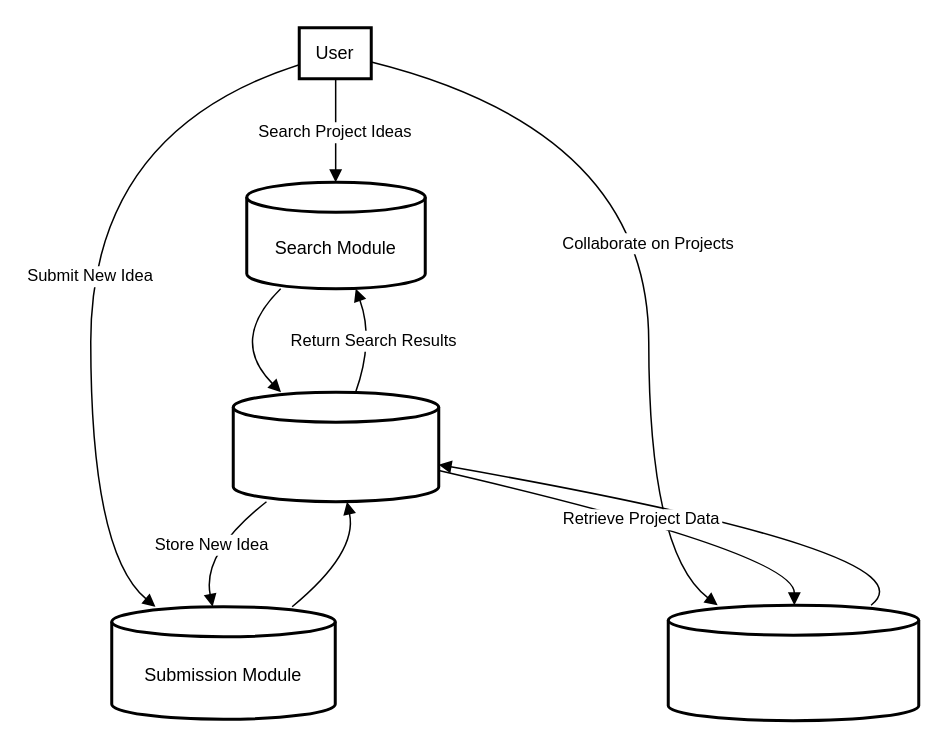
Some shapes in this 945 by 747 pixel diagram are drawn without their labels. The centre of each missing label's shape, as x and y in pixels:
Collaboration Module: pixel 793 662
Project Database: pixel 335 446
